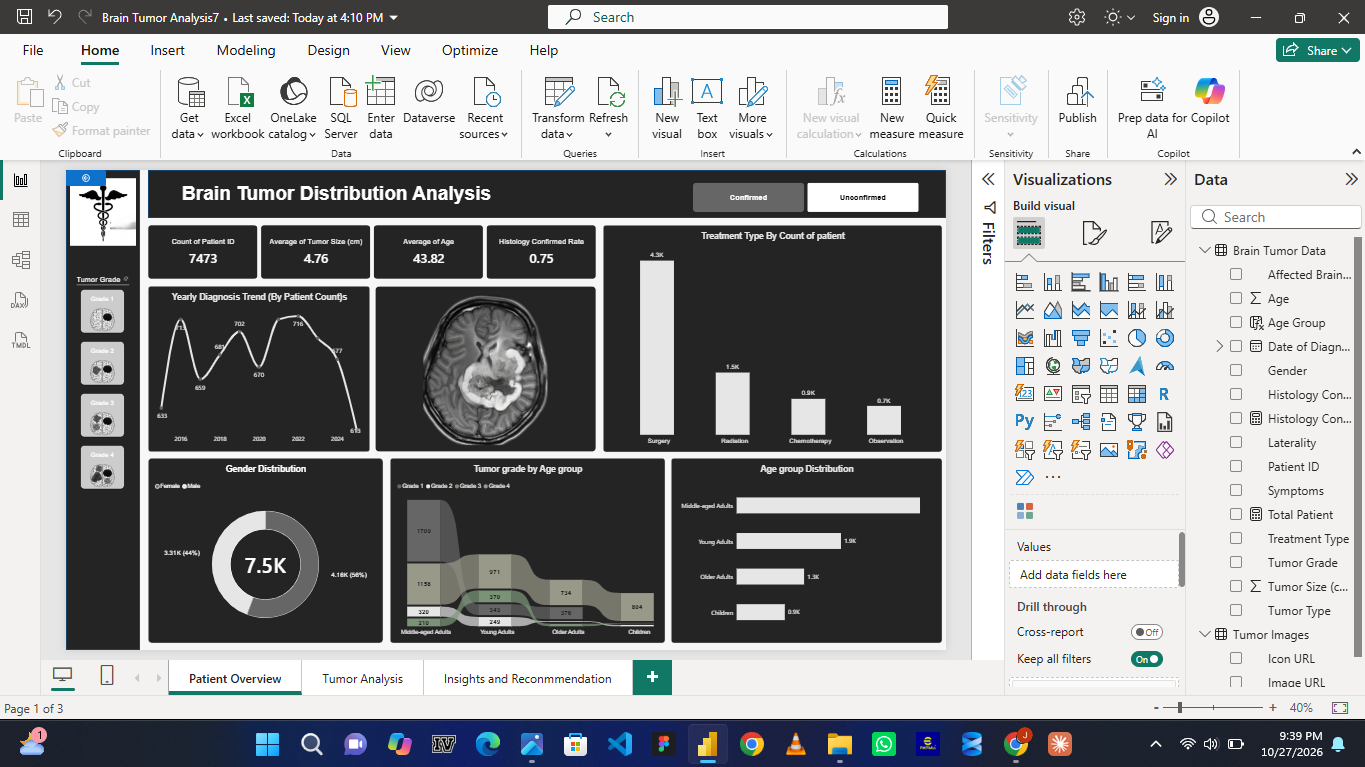

Layout of this report page (visuals, bound fields, positions):
{"tool":"powerbi","page":{"name":"Patient Overview","canvas":[2200,1200],"ordinal":0},"visuals":[{"type":"shape","box":[0,0,185,1200],"z":0},{"type":"ChicletSlicer1448559807354","fields":{"Category":["Tumor Images.Tumor Grade"],"Image":["Tumor Images.Icon URL"]},"box":[10,250,164,598],"z":1000},{"type":"shape","box":[205,0,1995,120],"z":2000},{"type":"textbox","box":[270,30,812.5,57.5],"z":3000},{"type":"cardVisual","fields":{"Data":["Count(Brain Tumor Data.Patient ID)","Avg(Brain Tumor Data.Tumor Size (cm))","Avg(Brain Tumor Data.Age)","Brain Tumor Data.Histology Confirmation Rate"]},"box":[205,137.5,1120,135],"z":4000},{"type":"image","box":[772.5,290,552.5,415],"z":5000},{"type":"donutChart","title":"Gender Distribution","fields":{"Category":["Brain Tumor Data.Gender"],"Y":["Count(Brain Tumor Data.Patient ID)"]},"box":[205,720,587.5,462.5],"z":6000},{"type":"lineChart","title":"Yearly Diagnosis Trend (By Patient Count)s","fields":{"Category":["Brain Tumor Data.Date of Diagnosis.Variation.Date Hierarchy.Year"],"Y":["CountNonNull(Brain Tumor Data.Patient ID)"]},"box":[205,290,555,415],"z":7000},{"type":"barChart","title":"Age group Distribution","fields":{"Category":["Brain Tumor Data.Age Group"],"Y":["CountNonNull(Brain Tumor Data.Patient ID)"]},"box":[1512.5,720,677.5,462.5],"z":8000},{"type":"ribbonChart","title":"Tumor grade by Age group","fields":{"Category":["Brain Tumor Data.Age Group"],"Series":["Brain Tumor Data.Tumor Grade"],"Y":["CountNonNull(Brain Tumor Data.Patient ID)"]},"box":[810,720,687.5,462.5],"z":9000},{"type":"advancedSlicerVisual","fields":{"Values":["Brain Tumor Data.Histology Confirmation"]},"box":[1567.5,0,565,105],"z":11000},{"type":"image","box":[10,17.5,165,175],"z":12000},{"type":"actionButton","box":[0,0,100,40],"z":12001},{"type":"columnChart","title":"Treatment Type By Count of patient","fields":{"Category":["Brain Tumor Data.Treatment Type"],"Y":["CountNonNull(Brain Tumor Data.Patient ID)"]},"box":[1342.5,137.5,847.5,567.5],"z":12002}]}

Visuals, with their boxes on the page's 2200x1200 design canvas (x1, y1, x2, y2). These are canvas units, not pixel positions in the 1365x767 screenshot, which may show the page scaled, cropped or inside an application window:
shape: (left=0, top=0, right=185, bottom=1200)
ChicletSlicer1448559807354 - Tumor Images.Tumor Grade x Tumor Images.Icon URL: (left=10, top=250, right=174, bottom=848)
shape: (left=205, top=0, right=2200, bottom=120)
textbox: (left=270, top=30, right=1082, bottom=88)
cardVisual - Count(Brain Tumor Data.Patient ID) x Avg(Brain Tumor Data.Tumor Size (cm)): (left=205, top=138, right=1325, bottom=272)
image: (left=772, top=290, right=1325, bottom=705)
"Gender Distribution" donutChart: (left=205, top=720, right=792, bottom=1182)
"Yearly Diagnosis Trend (By Patient Count)s" lineChart: (left=205, top=290, right=760, bottom=705)
"Age group Distribution" barChart: (left=1512, top=720, right=2190, bottom=1182)
"Tumor grade by Age group" ribbonChart: (left=810, top=720, right=1498, bottom=1182)
advancedSlicerVisual - Brain Tumor Data.Histology Confirmation: (left=1568, top=0, right=2132, bottom=105)
image: (left=10, top=18, right=175, bottom=192)
actionButton: (left=0, top=0, right=100, bottom=40)
"Treatment Type By Count of patient" columnChart: (left=1342, top=138, right=2190, bottom=705)
